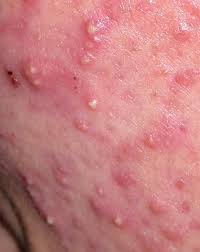bekas: (189, 219, 200, 230), (181, 203, 190, 212), (143, 218, 151, 227)
jerawat: (114, 172, 137, 188), (161, 225, 185, 238), (173, 25, 191, 41), (149, 199, 167, 214), (90, 199, 107, 213), (71, 214, 86, 227), (174, 72, 189, 85), (176, 178, 186, 188), (23, 177, 34, 185), (83, 41, 95, 48), (88, 240, 97, 249), (57, 165, 66, 174), (177, 124, 186, 132), (161, 69, 170, 77), (124, 146, 130, 155), (162, 141, 170, 147), (164, 115, 170, 122), (153, 43, 160, 48), (152, 90, 158, 95), (107, 112, 114, 116)
pus: (86, 98, 99, 112), (75, 119, 89, 132), (113, 215, 125, 228), (86, 25, 96, 36), (11, 76, 21, 87), (78, 55, 89, 64), (96, 186, 106, 195), (145, 137, 154, 146), (46, 216, 54, 226), (32, 79, 42, 87), (5, 68, 13, 76), (61, 177, 69, 184), (28, 66, 35, 72), (93, 36, 100, 41)
